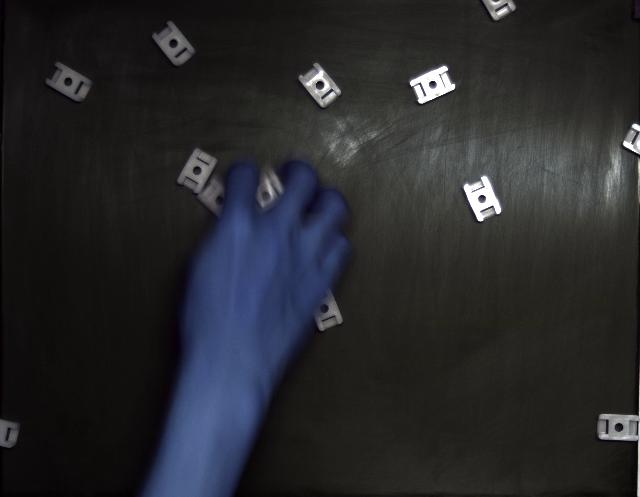second_side: (152, 21, 196, 66), (299, 62, 341, 108), (45, 62, 92, 102), (178, 149, 218, 194), (410, 66, 455, 104), (464, 176, 501, 222), (598, 414, 640, 441)
